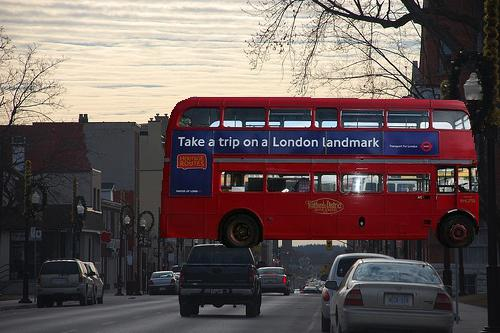tampered: (161, 97, 479, 248)
